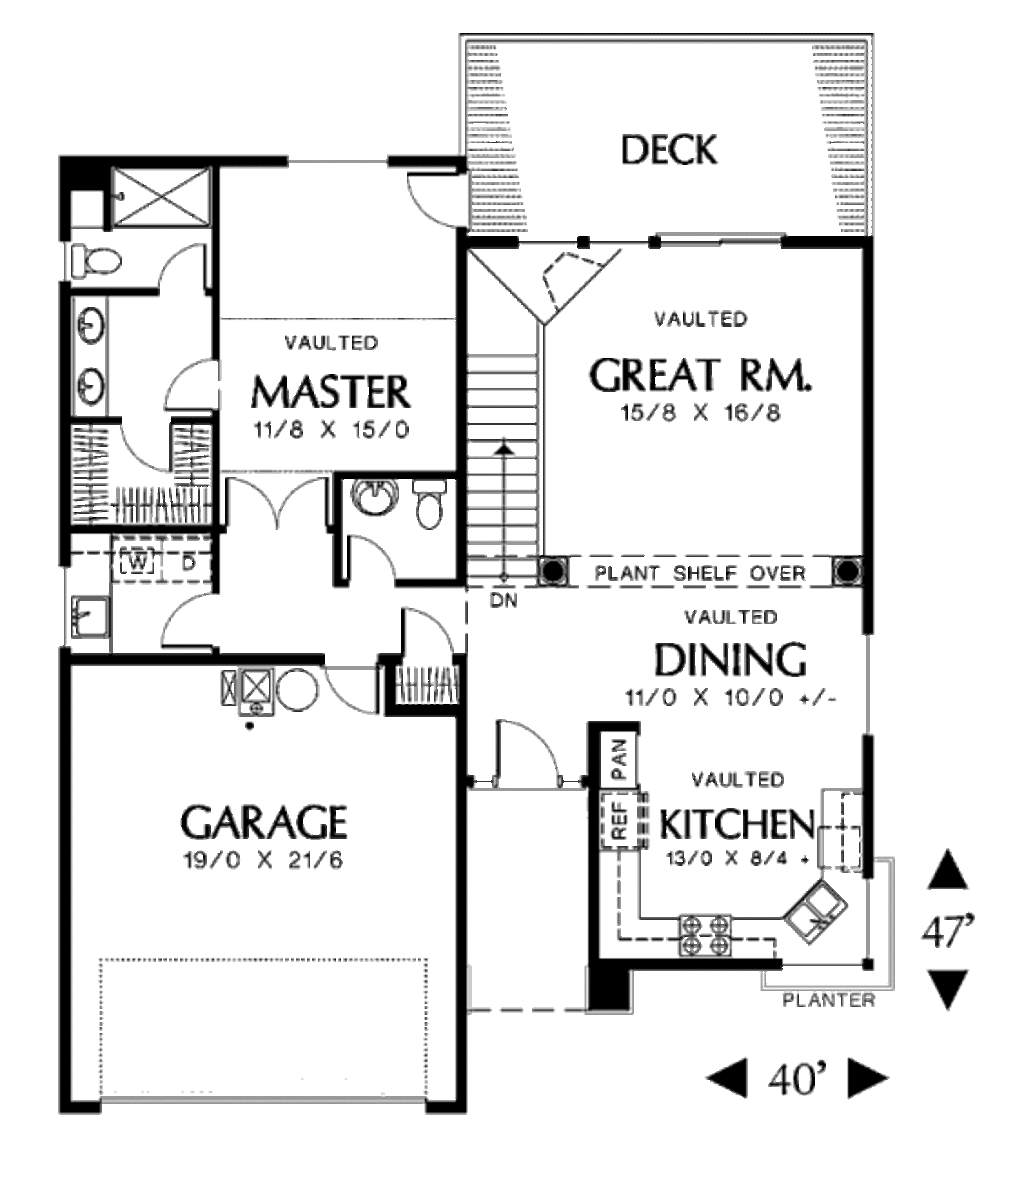door: (383, 150, 500, 242), (474, 705, 564, 790), (387, 590, 470, 677), (331, 524, 414, 600), (222, 474, 325, 535), (148, 577, 227, 653), (316, 655, 394, 725), (114, 407, 190, 475), (153, 361, 239, 416), (146, 233, 213, 301)
large_sink: (48, 224, 144, 294), (418, 472, 448, 546)
small_sink: (50, 298, 127, 431), (314, 468, 411, 524)
stairs: (450, 300, 550, 594)
twin_sink: (770, 850, 868, 964)
window: (640, 218, 792, 259)
